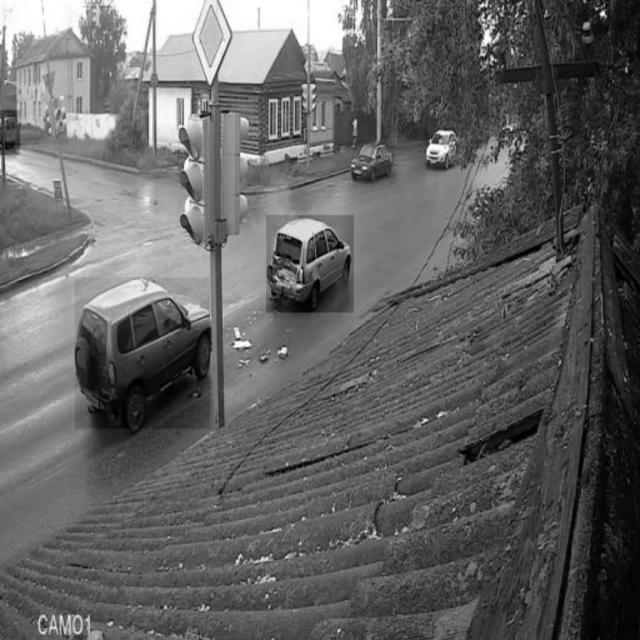vehicle: (74, 278, 210, 429), (266, 215, 354, 313), (353, 141, 395, 179), (425, 130, 459, 170), (0, 110, 20, 155)
